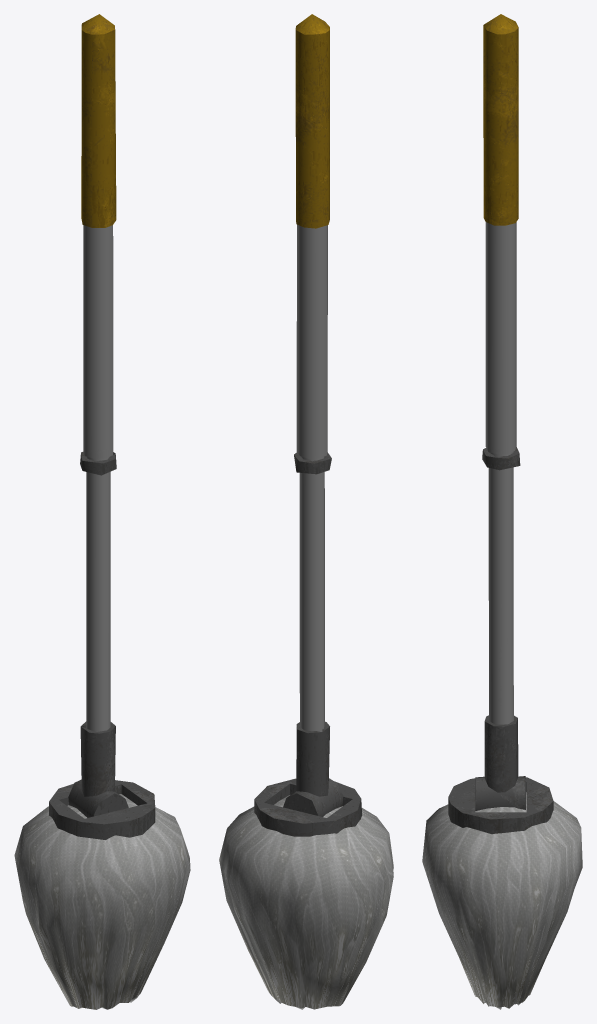
The model's file is SM_Mop.fbx.
3 views of the same model, side by side, from view 1: azimuth 30°, elevation 25°; view 2: azimuth 150°, elevation 25°; view 3: azimuth 270°, elevation 25° (orthographic).
Parts seen in each view (by area): view 1: SM_Mop_LOD0; view 2: SM_Mop_LOD0; view 3: SM_Mop_LOD0.
Boxes of the visible parts, x1,y1,x2,y2 form: SM_Mop_LOD0: (14,14,190,1009); SM_Mop_LOD0: (219,14,393,1009); SM_Mop_LOD0: (422,14,582,1009).
Bounding box in the file's own units: 28.94 × 26.35 × 177.
1 material, 1 textured.
